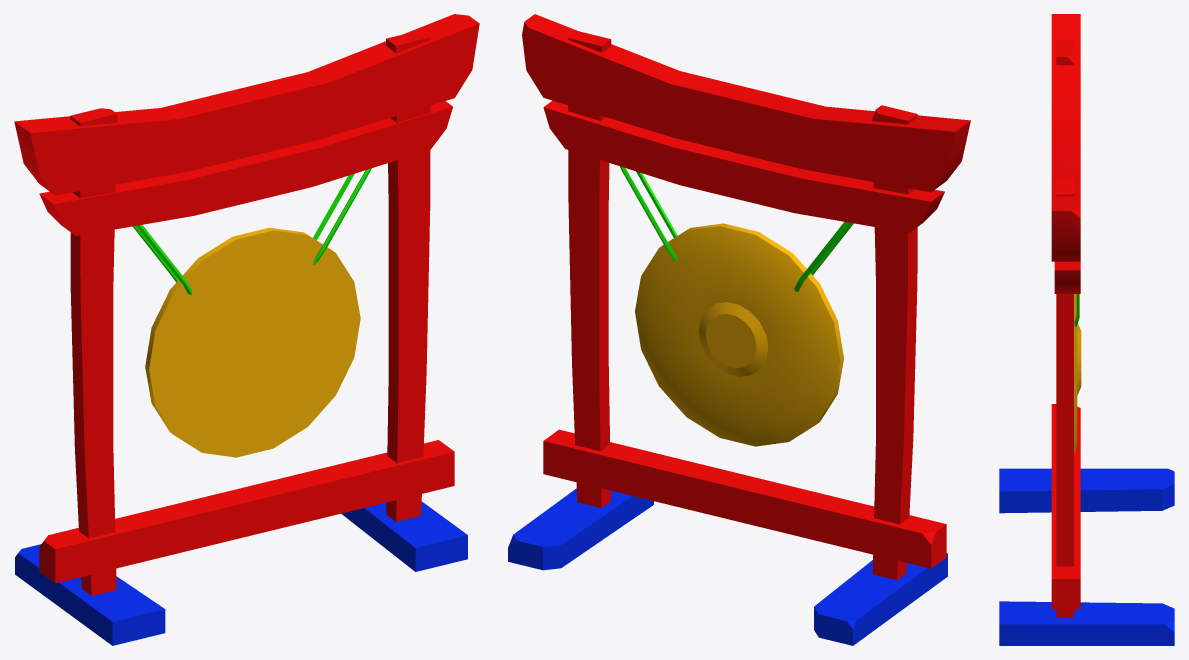
File: Drum.fbx
3 renders of one model, left to right at view 1: azimuth 30°, elevation 25°; view 2: azimuth 150°, elevation 25°; view 3: azimuth 270°, elevation 25°, orthographic. The views are drawn at different scales.
Parts seen in each view (by area): view 1: Drum; view 2: Drum; view 3: Drum.
Boxes of the visible parts, left/top/right/bottom form: Drum: left=14, top=14, right=479, bottom=645; Drum: left=508, top=14, right=970, bottom=645; Drum: left=999, top=14, right=1174, bottom=645.
Size of the model in its own units: 218 by 234 by 82.12.
